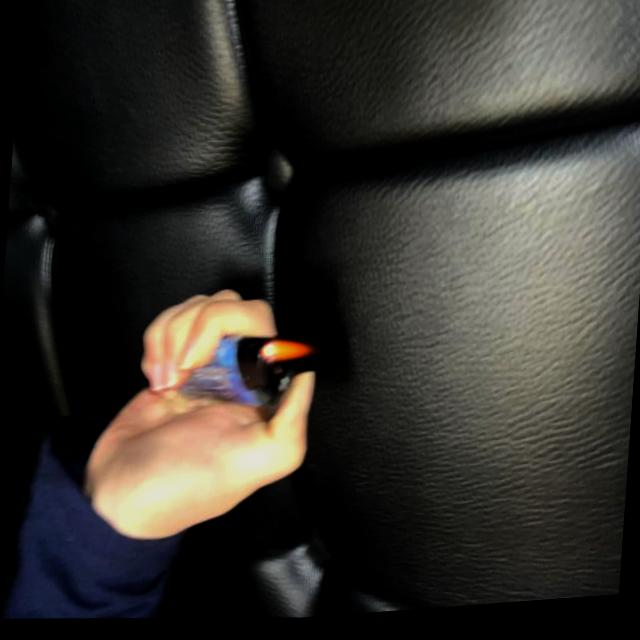helmet: (256, 337, 318, 373)
